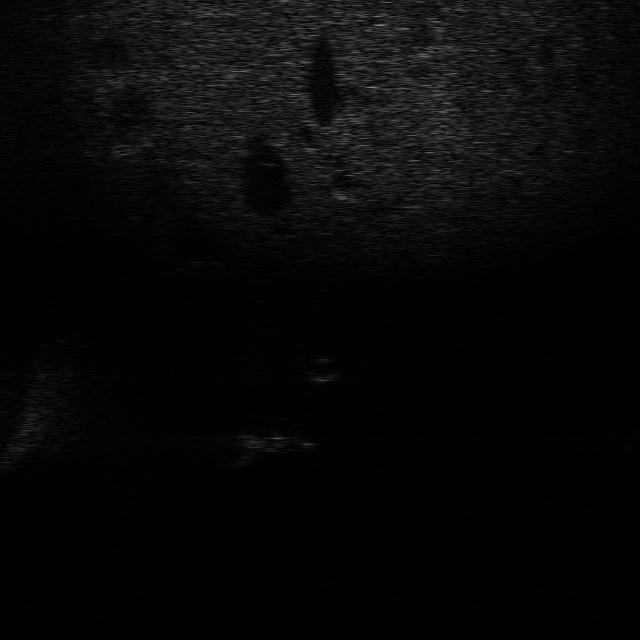ball: (297, 352, 345, 386)
square cage: (218, 424, 318, 465)
